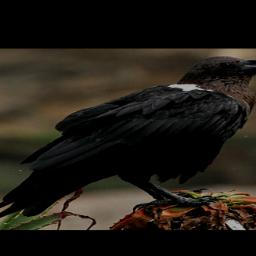Crow: (0, 55, 256, 222)
